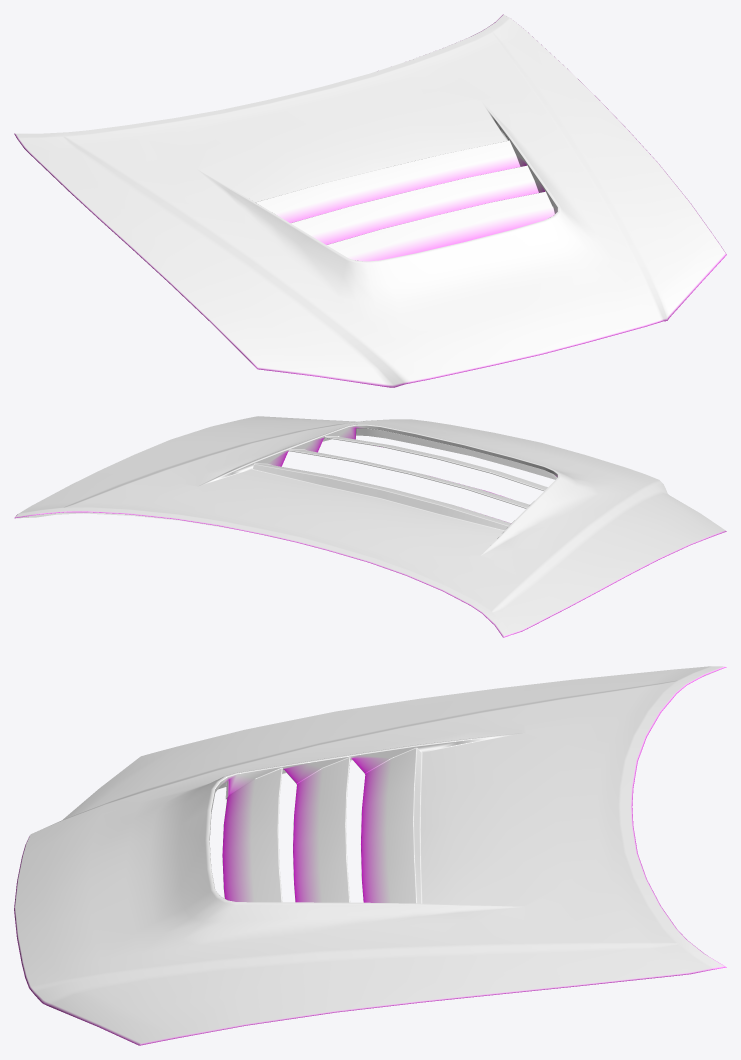
File: Car_Nissan_SkylineGTRVspecR34_1999_Hood_SetF.fbx
The picture shows the model from 3 angles, top to bottom: view 1: azimuth 30°, elevation 25°; view 2: azimuth 150°, elevation 25°; view 3: azimuth 270°, elevation 25°; orthographic projection. The views are drawn at different scales.
Visible parts, largest first — view 1: Hood 6; view 2: Hood 6; view 3: Hood 6.
Part boxes in pixels (<box>): Hood 6: <box>14,14,726,387</box>; Hood 6: <box>14,416,726,637</box>; Hood 6: <box>14,666,726,1045</box>.
Bounding box in the file's own units: 1.44 × 0.2518 × 1.42.
